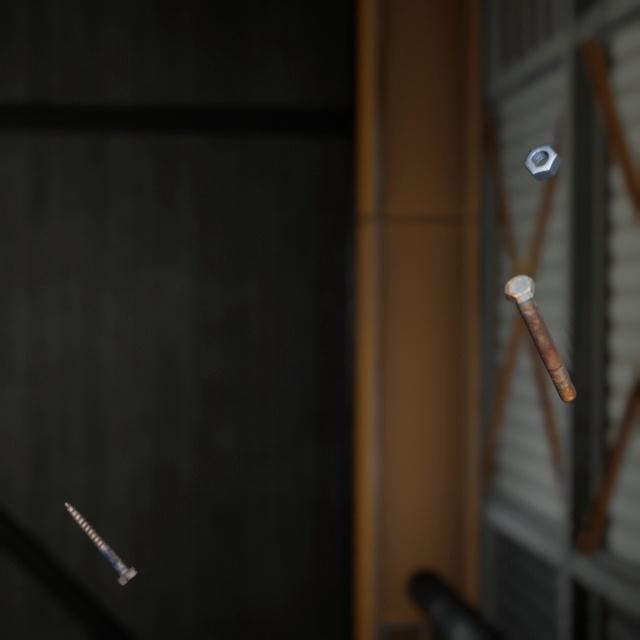bolt: (499, 251, 580, 389), (60, 476, 143, 568)
nut: (519, 126, 566, 171)
